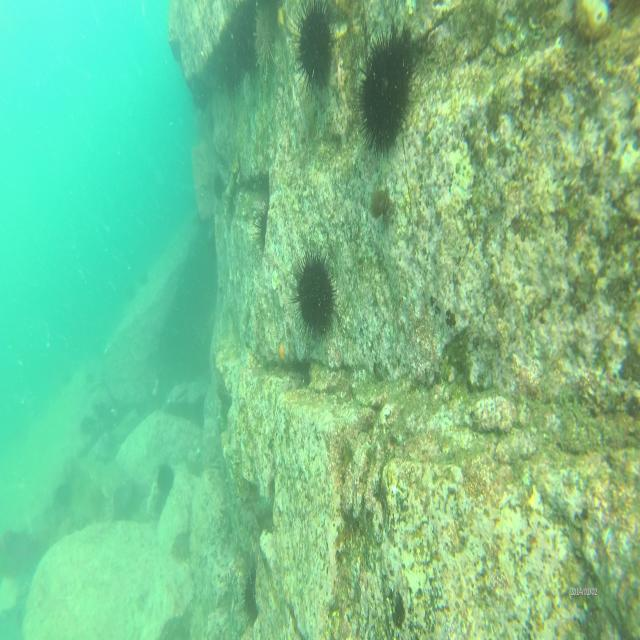echinus: (353, 22, 411, 151), (287, 249, 337, 341), (296, 0, 336, 103), (253, 0, 277, 72), (252, 197, 274, 256), (157, 459, 177, 497)
